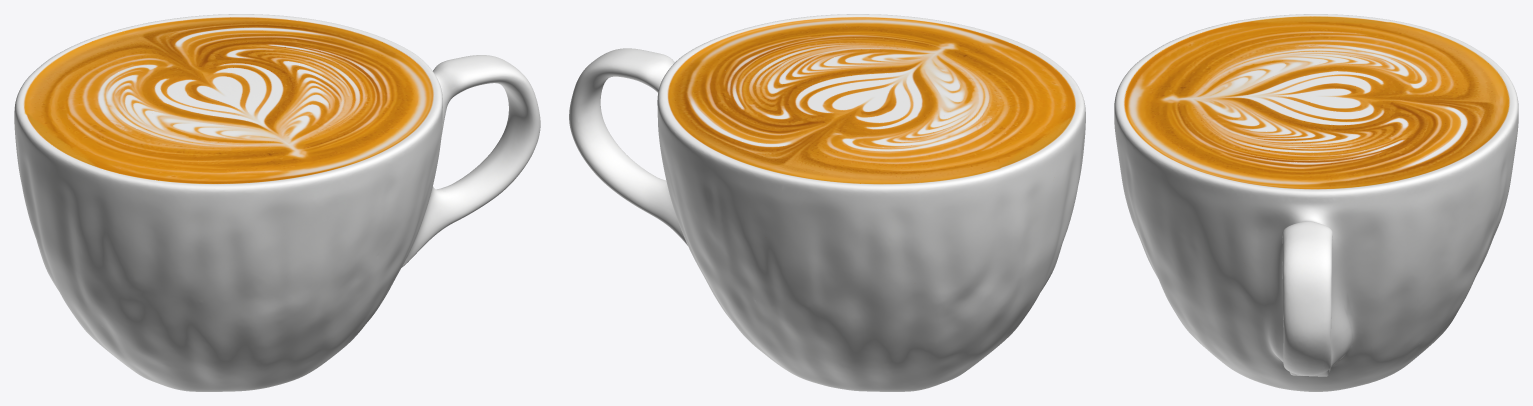
File: cafe.glb
3 views of the same model, side by side, from view 1: azimuth 30°, elevation 25°; view 2: azimuth 150°, elevation 25°; view 3: azimuth 270°, elevation 25° (orthographic).
Visible parts, largest first — view 1: Mesh_0.002; view 2: Mesh_0.002; view 3: Mesh_0.002.
Part boxes in pixels (<box>): Mesh_0.002: <box>14,14,540,391</box>; Mesh_0.002: <box>569,14,1085,391</box>; Mesh_0.002: <box>1114,14,1518,391</box>.
Size of the model in its own units: 1.98 by 1 by 1.44.
Materials: 1 (1 with a texture image).
